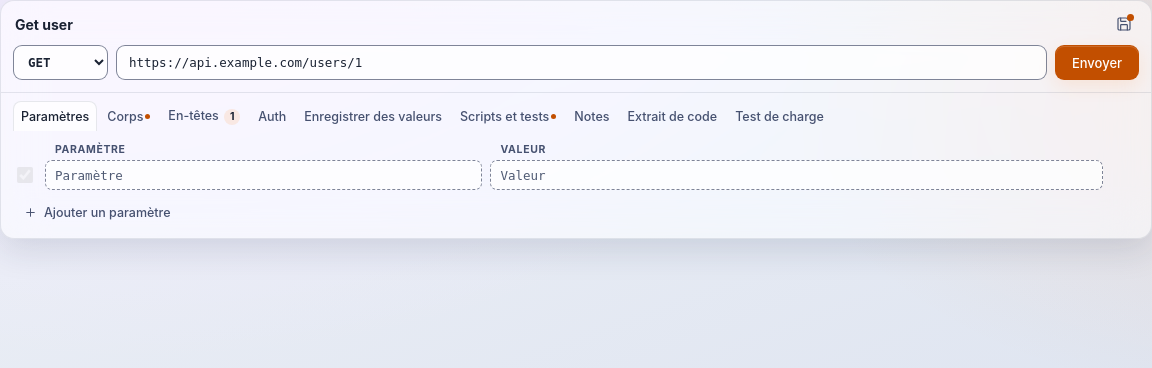
Test: RequestEditor translations › uses whole sentences per row kind, never a spliced noun (French gender)
Check: the button "Ajouter un paramètre" is shown, box [13,199,182,226]
Check: the field named "Nom du nouveau paramètre" is shown, box [45,160,482,190]
Click the tab "En-têtes 1" at (204, 116), box [160,101,248,131]
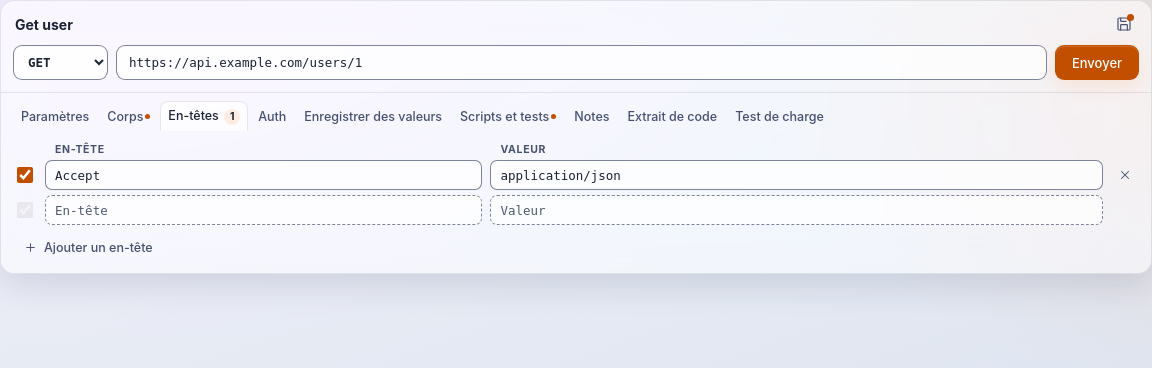
Check: the button "Ajouter un en-tête" is shown, box [13,234,164,261]
Check: the field named "Nom de l’en-tête 1" holds "Accept", box [45,160,482,190]
